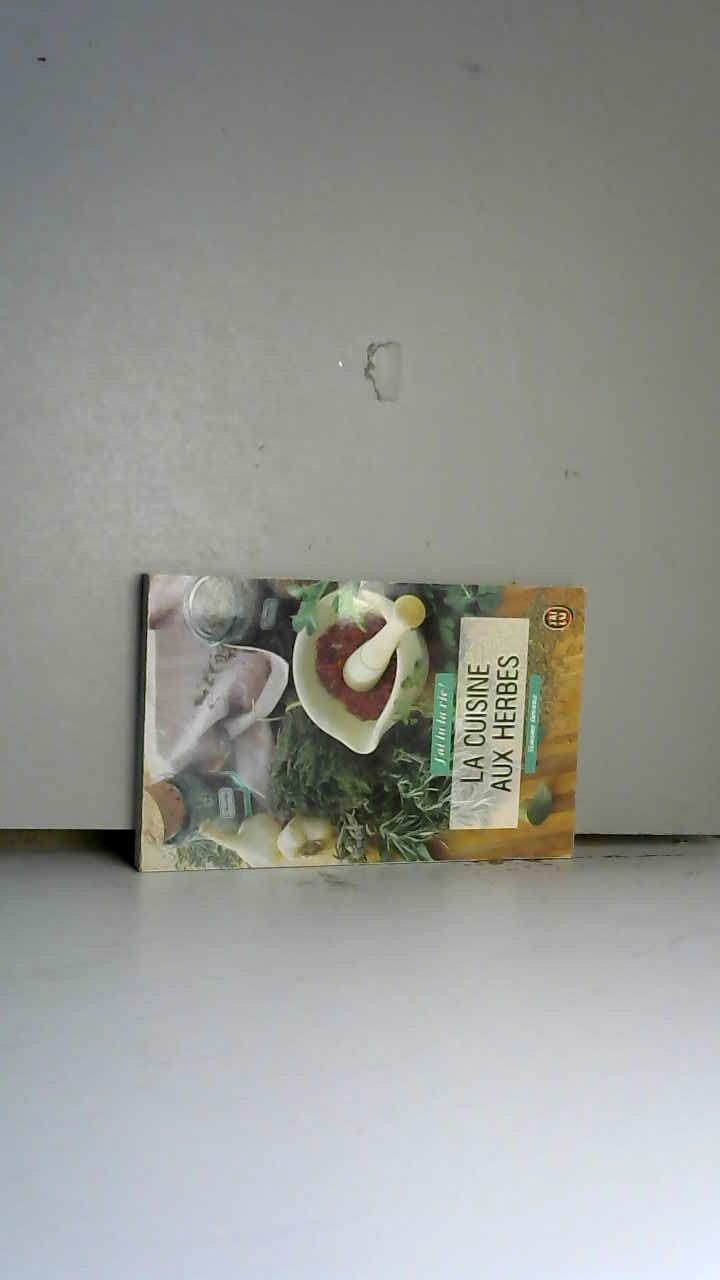book: (111, 549, 607, 898)
